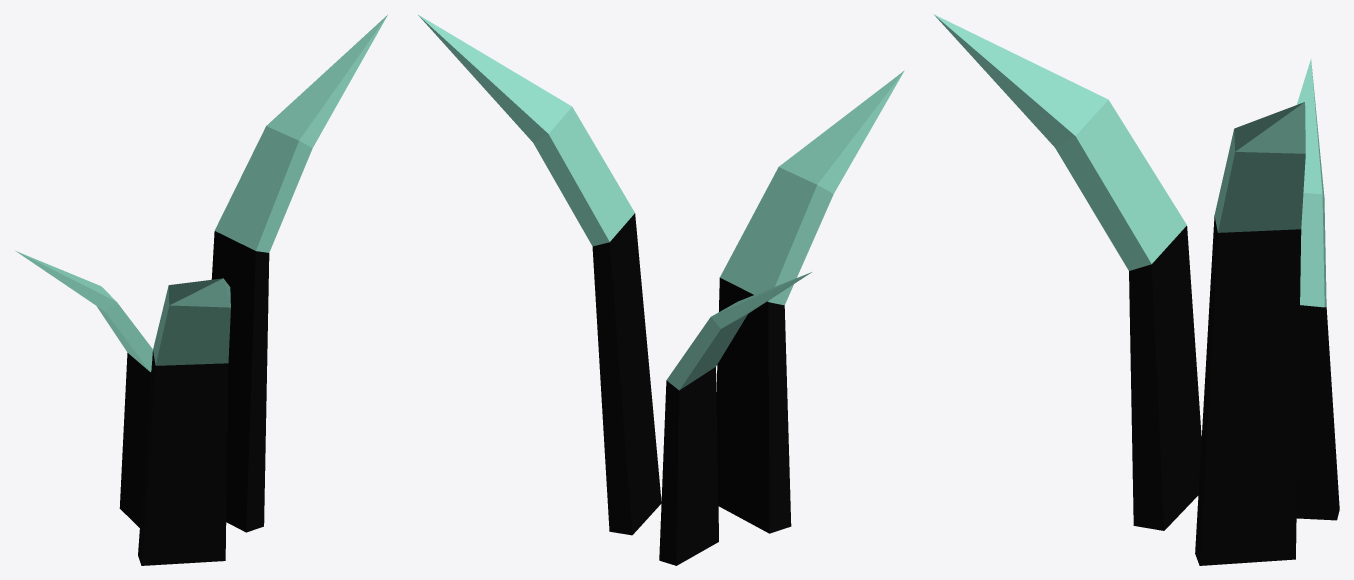
Rendered from Grass_5.fbx.
The picture shows the model from 3 angles, left to right: view 1: azimuth 30°, elevation 25°; view 2: azimuth 150°, elevation 25°; view 3: azimuth 270°, elevation 25°; orthographic projection. The views are drawn at different scales.
Visible parts, largest first — view 1: Grass_5; view 2: Grass_5; view 3: Grass_5.
Boxes of the visible parts, left/top/right/bottom form: Grass_5: left=15, top=15, right=387, bottom=565; Grass_5: left=418, top=15, right=904, bottom=565; Grass_5: left=933, top=14, right=1339, bottom=565.
Size of the model in its own units: 0.0847 by 0.0963 by 0.0625.
